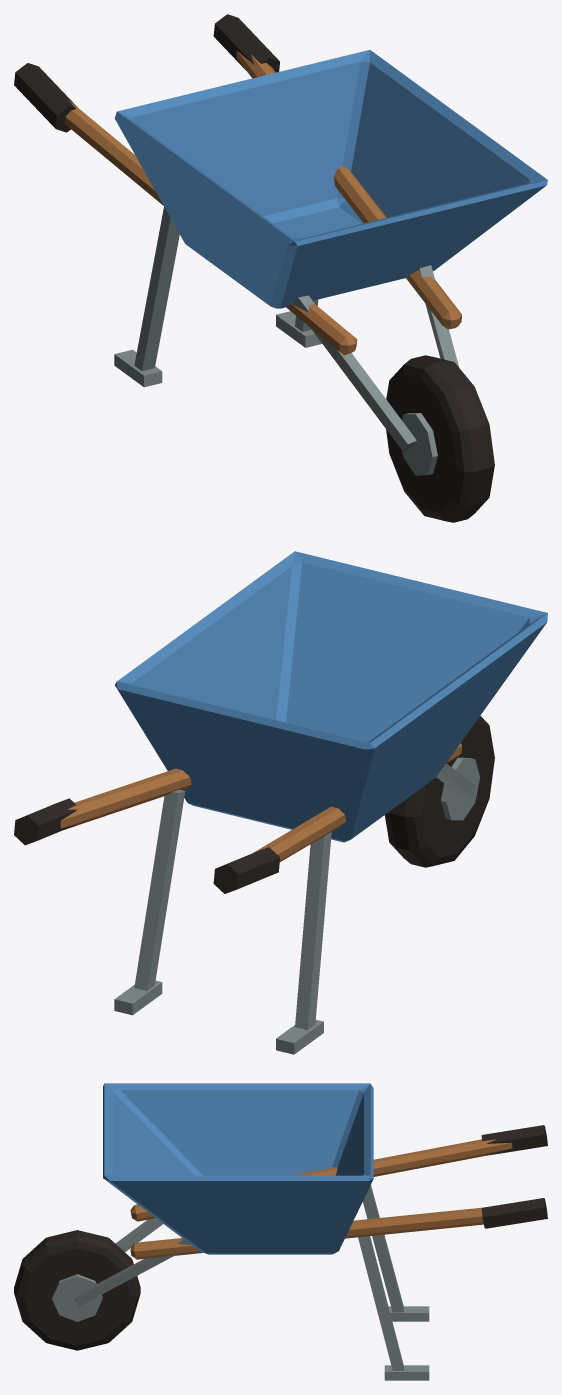
File: gerobak.glb
The picture shows the model from 3 angles, top to bottom: view 1: azimuth 30°, elevation 25°; view 2: azimuth 150°, elevation 25°; view 3: azimuth 270°, elevation 25°; orthographic projection. The views are drawn at different scales.
Parts seen in each view (by area): view 1: gerobak_mesh; view 2: gerobak_mesh; view 3: gerobak_mesh.
Part boxes in pixels (x1,y1,x2,y2): gerobak_mesh: [14, 14, 547, 522]; gerobak_mesh: [14, 551, 547, 1054]; gerobak_mesh: [14, 1083, 547, 1380].
Size of the model in its own units: 0.7086 by 0.7648 by 1.68.
